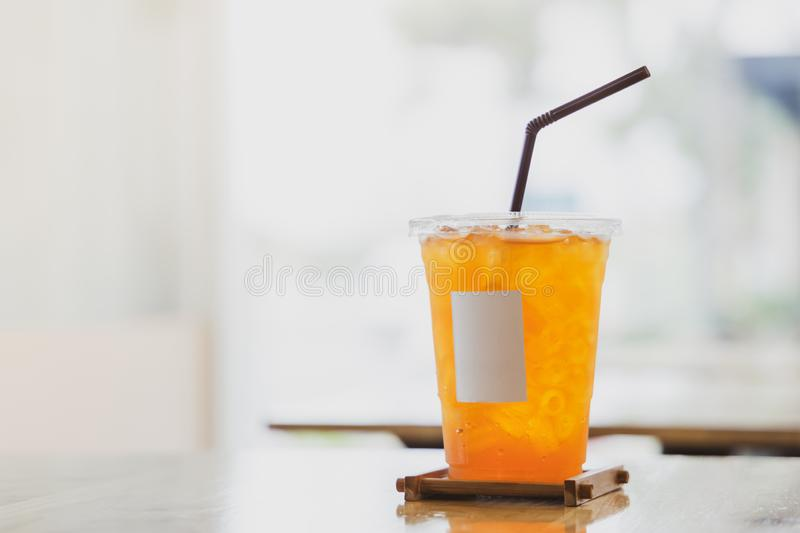plastic_glass: (402, 203, 626, 494)
